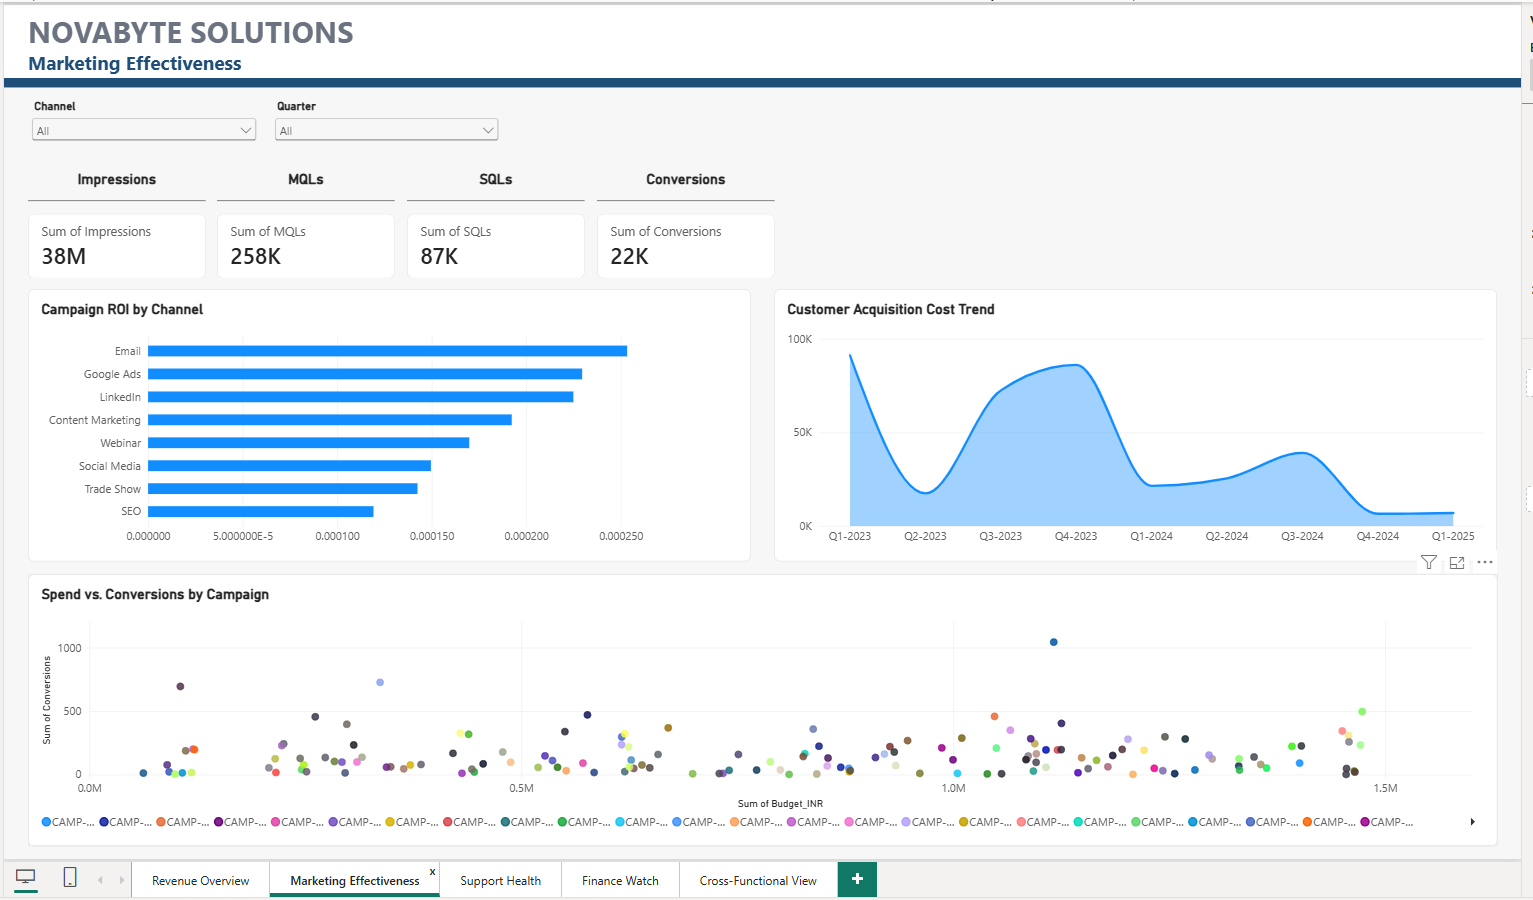

What the dashboard file says about the page in this screenshot:
{"tool":"powerbi","page":{"name":"Marketing Effectiveness","canvas":[1920,1080],"ordinal":1},"visuals":[{"type":"barChart","title":"Campaign ROI by Channel","fields":{"Category":["Marketing_Campaigns.Channel"],"Y":["Measures_Table.Campaign ROI"]},"box":[30,360,915,345],"z":0},{"type":"lineChart","title":"Customer Acquisition Cost Trend","fields":{"Y":["Measures_Table.Avg CAC"],"Category":["Marketing_Campaigns.Quarter"]},"box":[975,360,915,345],"z":1000},{"type":"cardVisual","title":"Impressions","fields":{"Data":["Sum(Marketing_Campaigns.Impressions)"]},"box":[30,210,225,135],"z":2000},{"type":"cardVisual","title":"MQLs","fields":{"Data":["Sum(Marketing_Campaigns.MQLs)"]},"box":[270,210,225,135],"z":3000},{"type":"cardVisual","title":"SQLs","fields":{"Data":["Sum(Marketing_Campaigns.SQLs)"]},"box":[510,210,225,135],"z":4000},{"type":"cardVisual","title":"Conversions","fields":{"Data":["Sum(Marketing_Campaigns.Conversions)"]},"box":[750,210,225,135],"z":5000},{"type":"scatterChart","title":"Spend vs. Conversions by Campaign","fields":{"X":["Sum(Marketing_Campaigns.Budget_INR)"],"Y":["Sum(Marketing_Campaigns.Conversions)"],"Series":["Marketing_Campaigns.Campaign_ID"]},"box":[30.4,720,1860,345],"z":6000},{"type":"slicer","fields":{"Values":["Marketing_Campaigns.Channel"]},"box":[30,120,294,68],"z":7000},{"type":"slicer","fields":{"Values":["Marketing_Campaigns.Quarter"]},"box":[338,120,293,68],"z":8000},{"type":"shape","box":[0,0,1920,105],"z":9000},{"type":"shape","box":[0,93,1920,12],"z":10000},{"type":"textbox","box":[30,8,600,85],"z":11000}]}

Visuals, with their boxes on the page's 1920x1080 design canvas (x1, y1, x2, y2). These are canvas units, not pixel positions in the 1533x900 screenshot, which may show the page scaled, cropped or inside an application window:
"Campaign ROI by Channel" barChart: <bbox>30, 360, 945, 705</bbox>
"Customer Acquisition Cost Trend" lineChart: <bbox>975, 360, 1890, 705</bbox>
"Impressions" cardVisual: <bbox>30, 210, 255, 345</bbox>
"MQLs" cardVisual: <bbox>270, 210, 495, 345</bbox>
"SQLs" cardVisual: <bbox>510, 210, 735, 345</bbox>
"Conversions" cardVisual: <bbox>750, 210, 975, 345</bbox>
"Spend vs. Conversions by Campaign" scatterChart: <bbox>30, 720, 1890, 1065</bbox>
slicer - Marketing_Campaigns.Channel: <bbox>30, 120, 324, 188</bbox>
slicer - Marketing_Campaigns.Quarter: <bbox>338, 120, 631, 188</bbox>
shape: <bbox>0, 0, 1920, 105</bbox>
shape: <bbox>0, 93, 1920, 105</bbox>
textbox: <bbox>30, 8, 630, 93</bbox>
